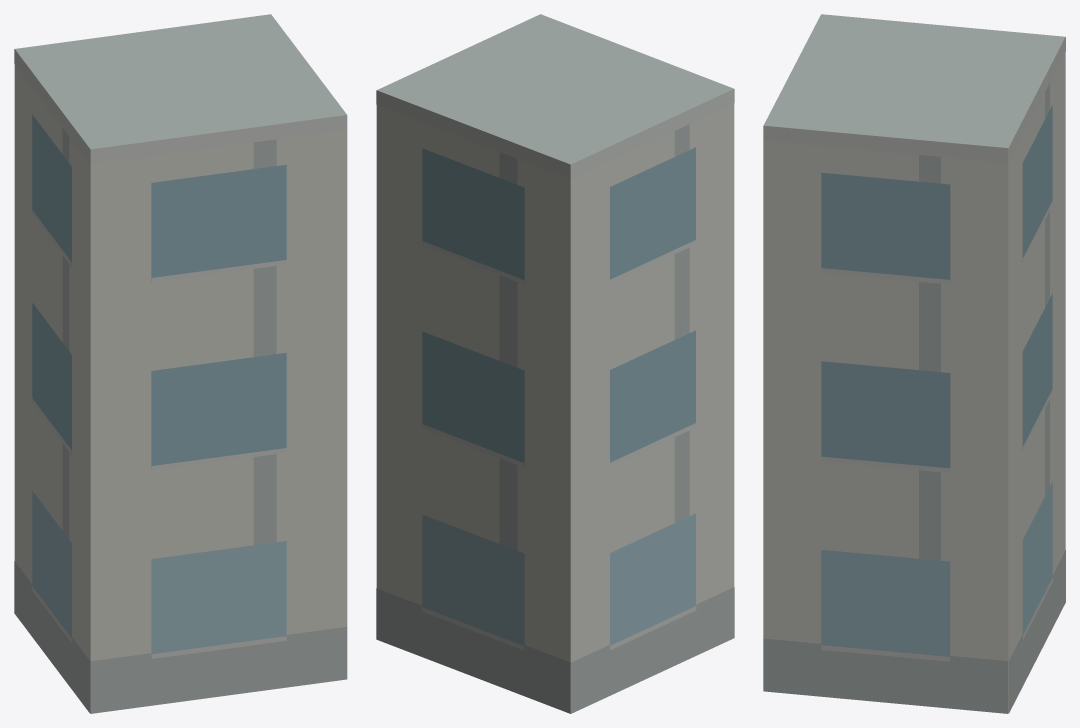
The model's file is survey-upis-32745706.glb.
3 views of the same model, side by side, from view 1: azimuth 30°, elevation 25°; view 2: azimuth 150°, elevation 25°; view 3: azimuth 270°, elevation 25° (orthographic). The views are drawn at different scales.
Parts seen in each view (by area): view 1: survey-upis-32745706.tmp; view 2: survey-upis-32745706.tmp; view 3: survey-upis-32745706.tmp.
Boxes of the visible parts, x1=… form: survey-upis-32745706.tmp: x1=14, y1=14, x2=347, y2=713; survey-upis-32745706.tmp: x1=376, y1=14, x2=734, y2=713; survey-upis-32745706.tmp: x1=763, y1=14, x2=1065, y2=713.
Size of the model in its own units: 4.66 by 9.15 by 4.44.
